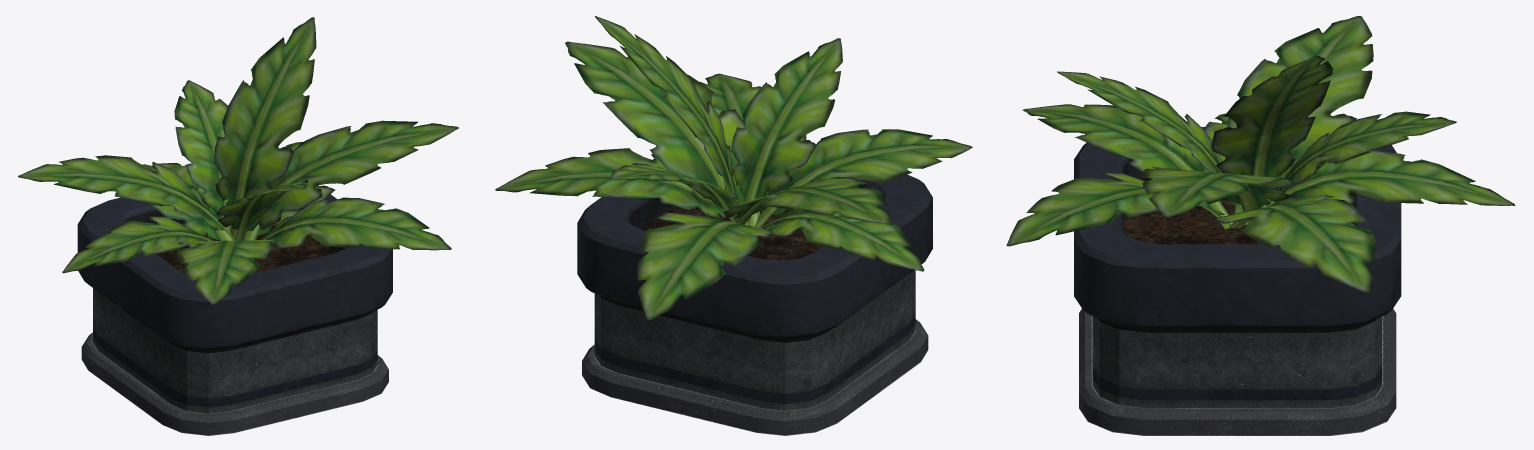
File: Leaf_vase.fbx
3 views of the same model, side by side, from view 1: azimuth 30°, elevation 25°; view 2: azimuth 150°, elevation 25°; view 3: azimuth 270°, elevation 25° (orthographic). The views are drawn at different scales.
Visible parts, largest first — view 1: Leaf_Vase; view 2: Leaf_Vase; view 3: Leaf_Vase.
Part boxes in pixels (x1,y1,x2,y2): Leaf_Vase: (18, 17, 458, 435); Leaf_Vase: (495, 16, 972, 435); Leaf_Vase: (1006, 16, 1515, 435).
Bounding box in the file's own units: 370 × 292 × 356.
